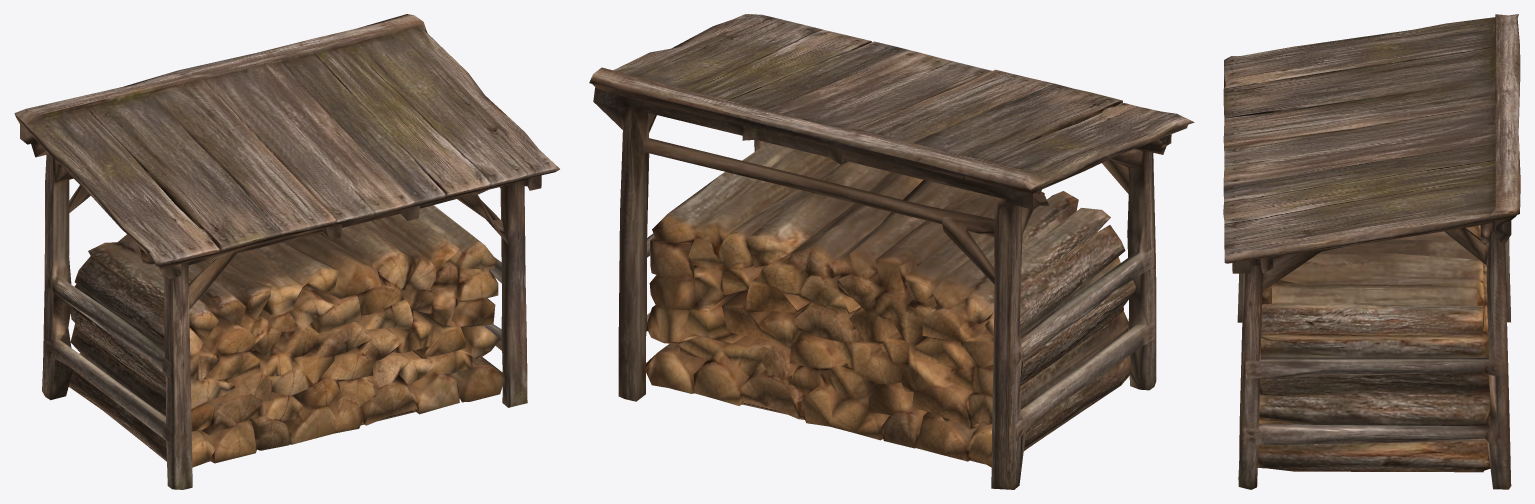
Rendered from woodpile.glb.
3 renders of one model, left to right at view 1: azimuth 30°, elevation 25°; view 2: azimuth 150°, elevation 25°; view 3: azimuth 270°, elevation 25°, orthographic. The views are drawn at different scales.
Visible parts, largest first — view 1: wooden log shed 3d model; view 2: wooden log shed 3d model; view 3: wooden log shed 3d model.
Boxes of the visible parts, left/top/right/bottom form: wooden log shed 3d model: left=14, top=14, right=559, bottom=489; wooden log shed 3d model: left=589, top=14, right=1194, bottom=489; wooden log shed 3d model: left=1223, top=14, right=1520, bottom=489.
Bounding box in the file's own units: 1.77 × 1.2 × 1.11.
Materials: 1 (1 with a texture image).
